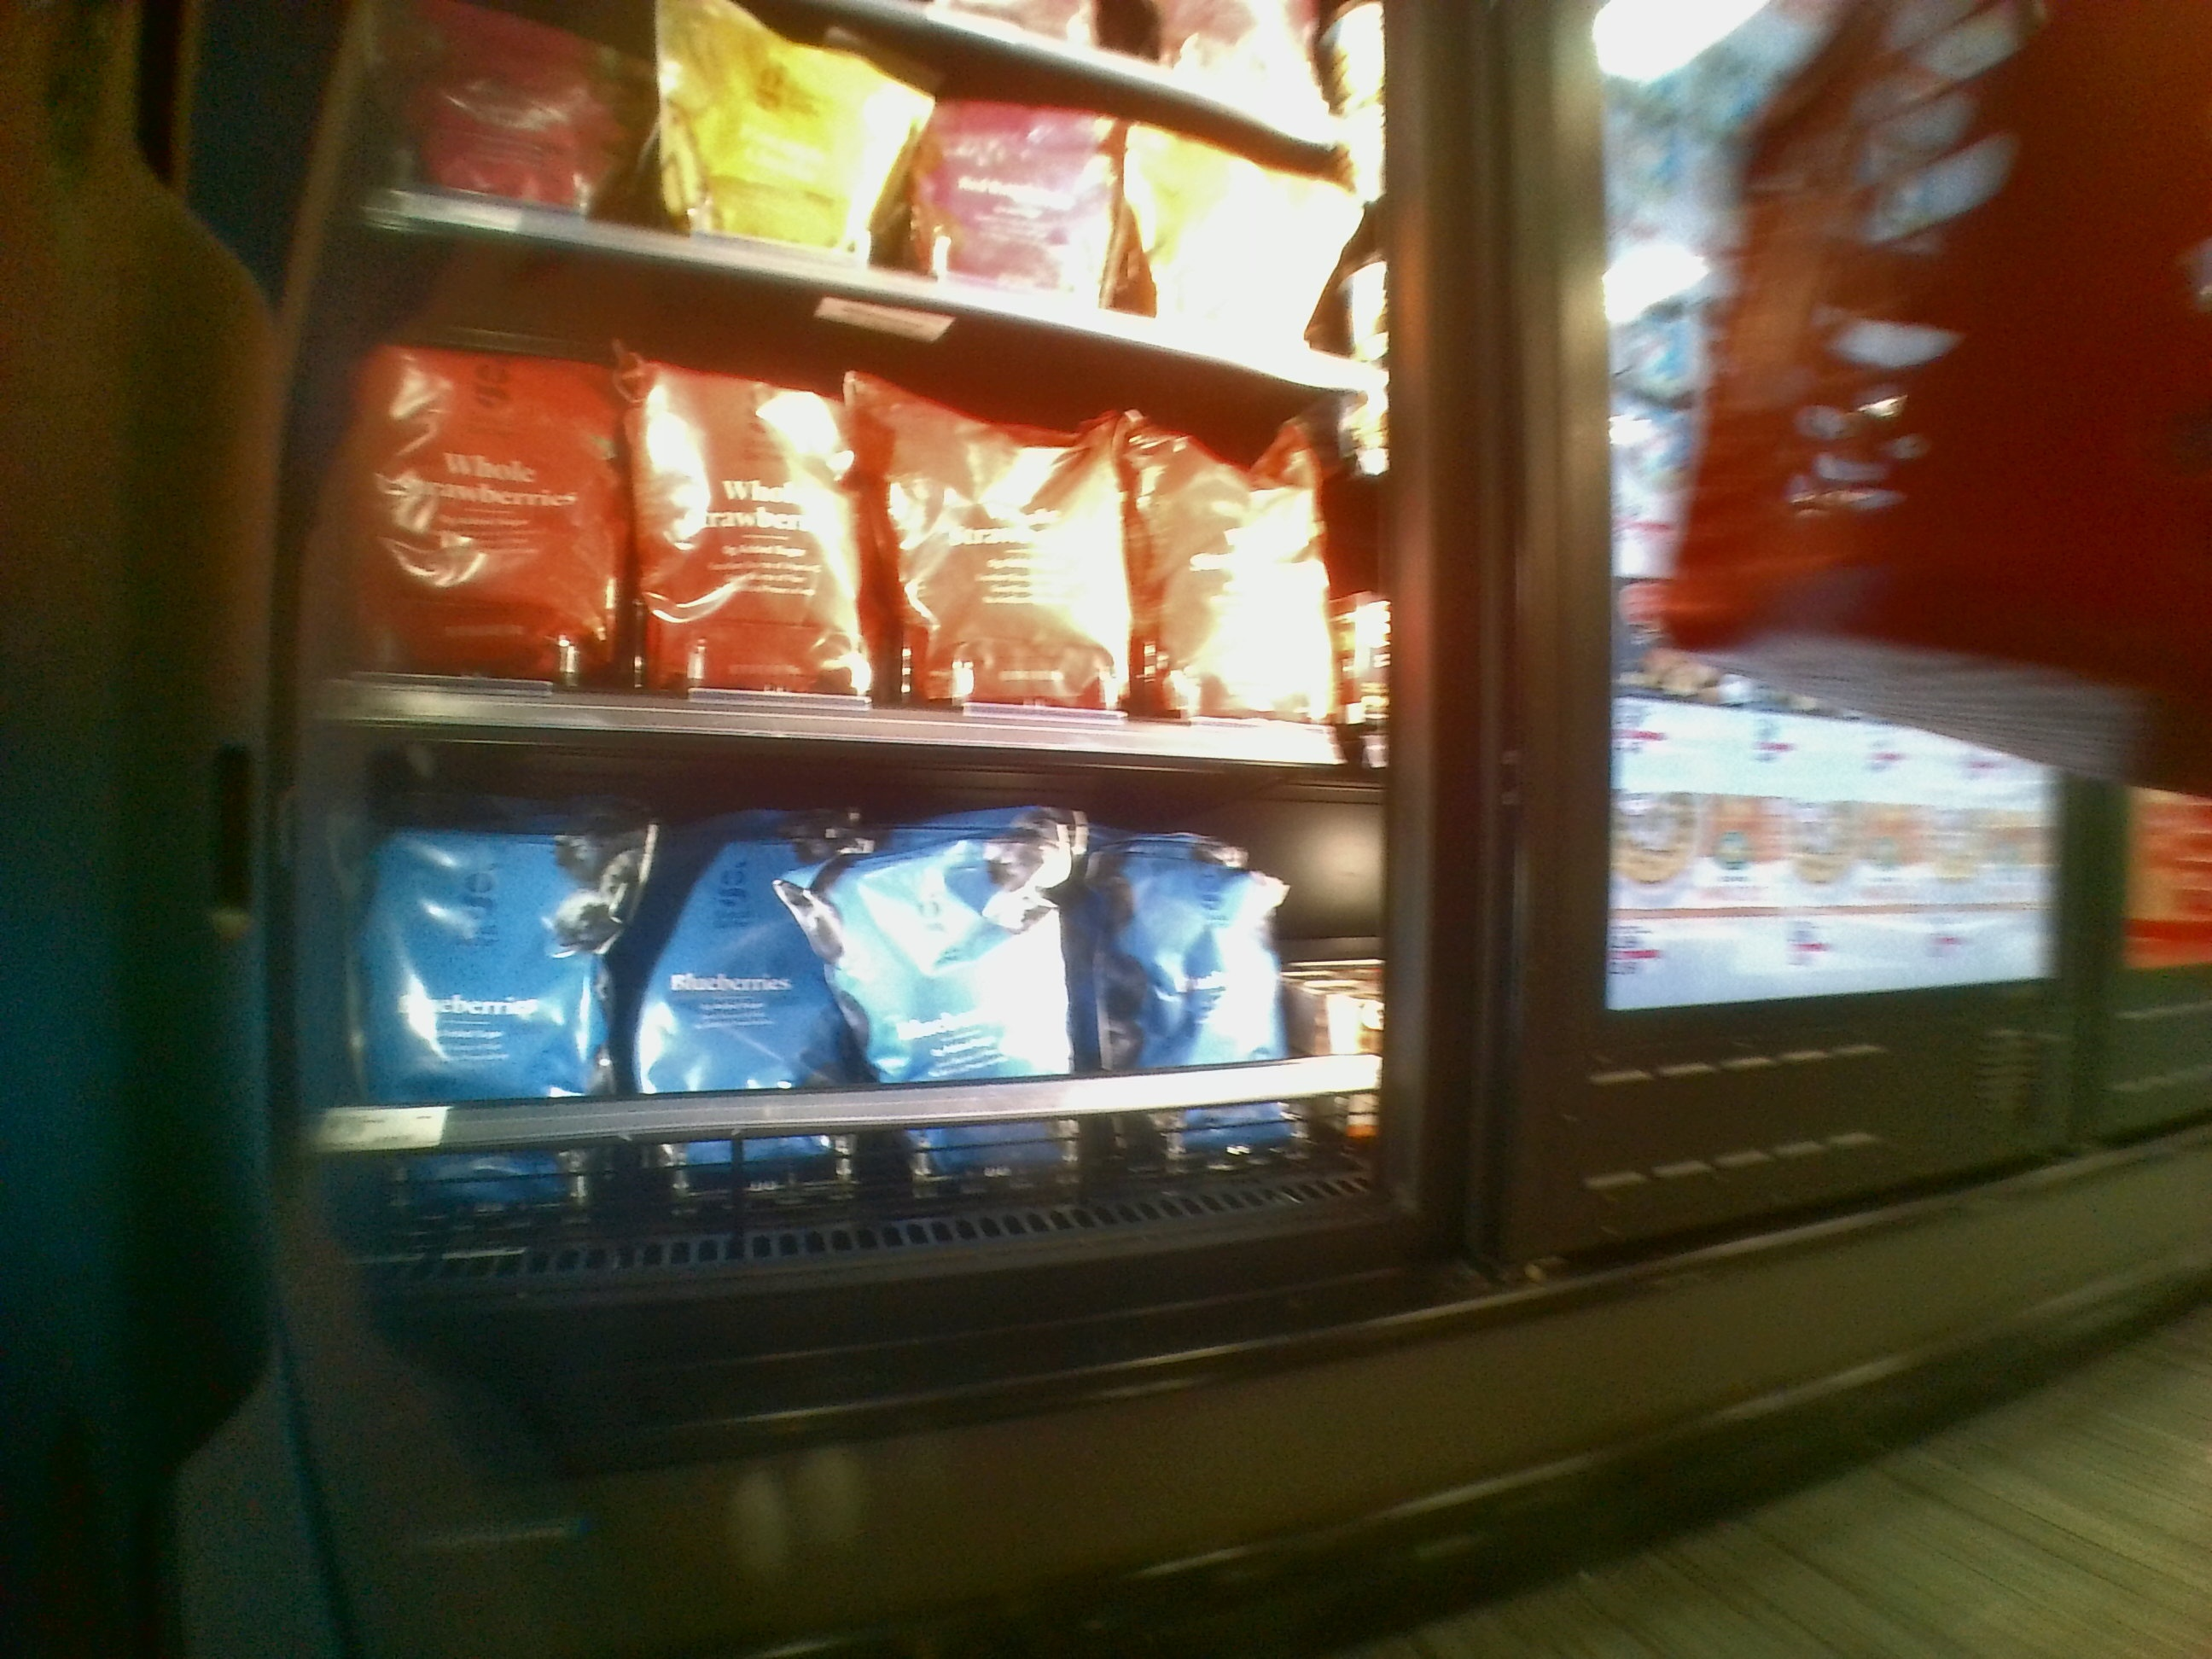shelf: (319, 751, 1385, 1232), (310, 326, 1385, 756)
